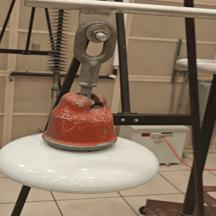insulator: (0, 96, 170, 200)
